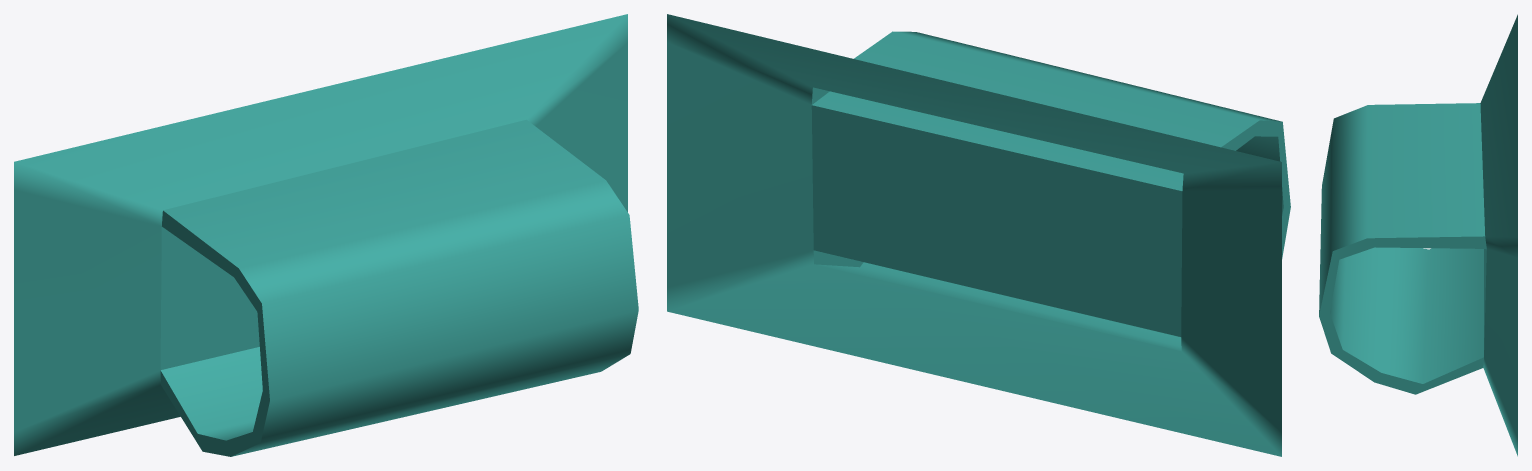
Rendered from PipeHolder_1.fbx.
3 renders of one model, left to right at view 1: azimuth 30°, elevation 25°; view 2: azimuth 150°, elevation 25°; view 3: azimuth 270°, elevation 25°, orthographic. The views are drawn at different scales.
Parts seen in each view (by area): view 1: PipeHolder_1; view 2: PipeHolder_1; view 3: PipeHolder_1.
Part boxes in pixels (<box>): PipeHolder_1: <box>14,14,638,456</box>; PipeHolder_1: <box>667,14,1290,456</box>; PipeHolder_1: <box>1319,14,1517,456</box>.
Size of the model in its own units: 56.7 by 26.4 by 21.51.
